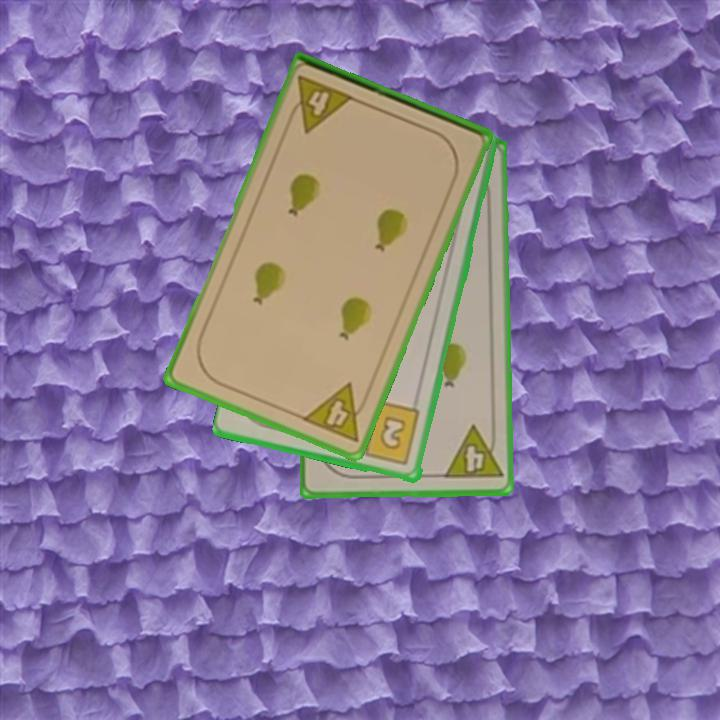2b: (353, 399, 423, 468)
4p: (298, 379, 374, 445), (283, 72, 357, 136), (440, 422, 505, 483)
